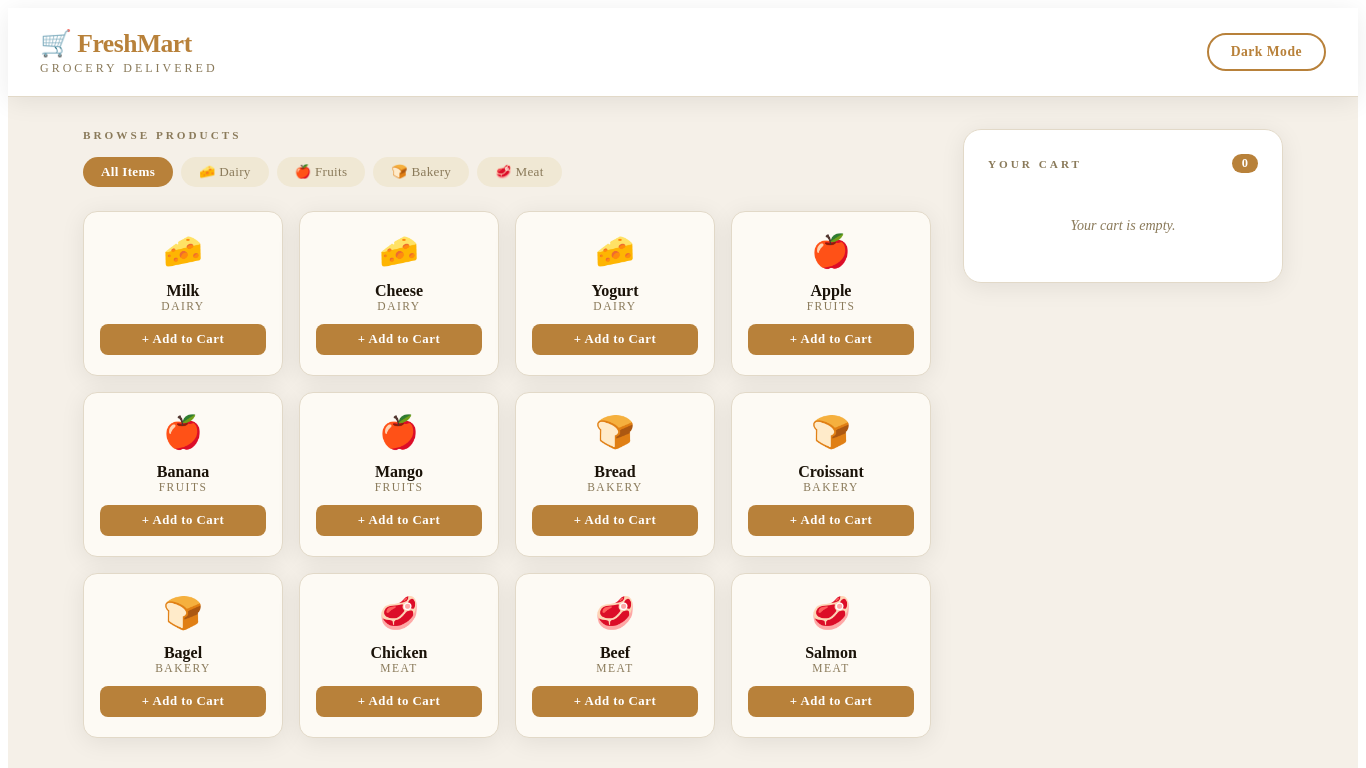
Test: ShoppingApp › Category filtering › shows only Fruits products when Fruits filter is selected
Step 1. Click the button "🍎 Fruits" → (321, 172), box [277,157,365,187]
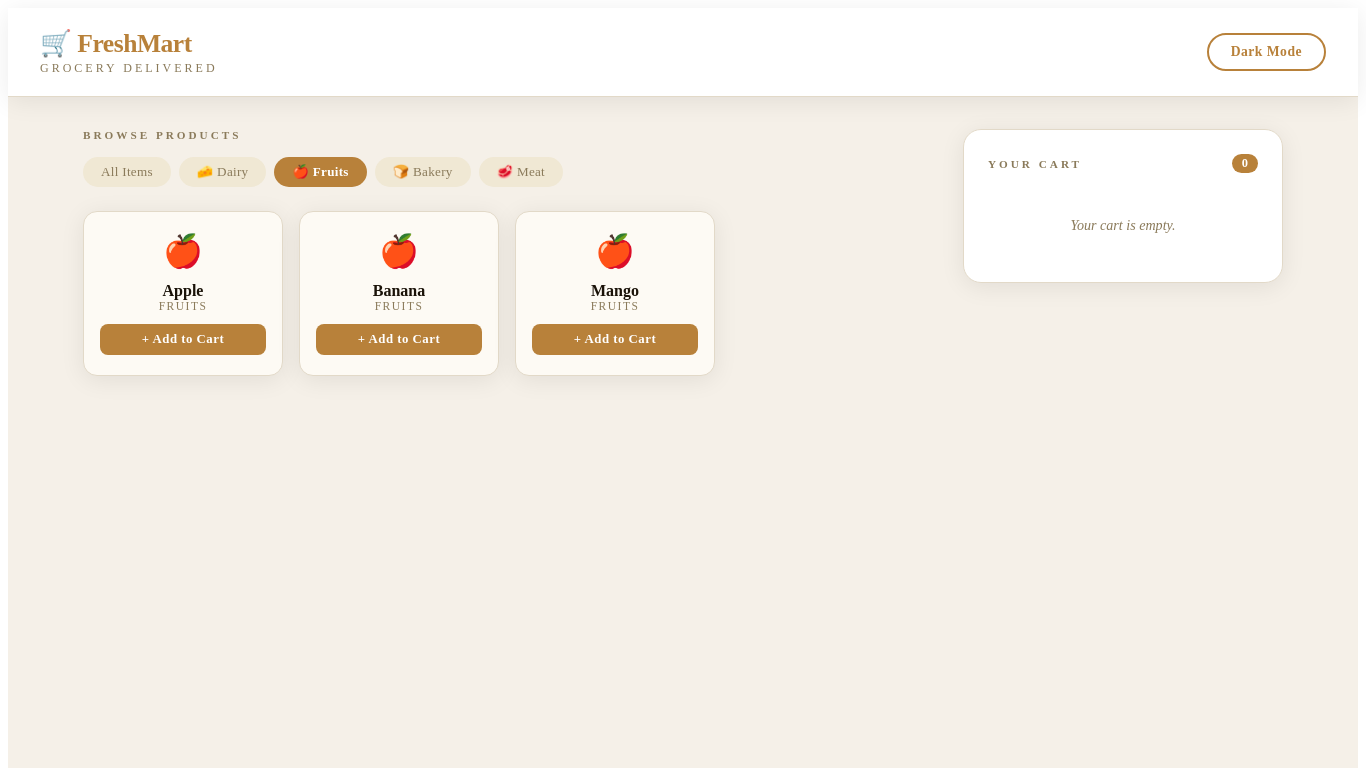
Expected: the text "Apple" is shown, [162,282,203,299]
Expected: the text "Milk" is gone
